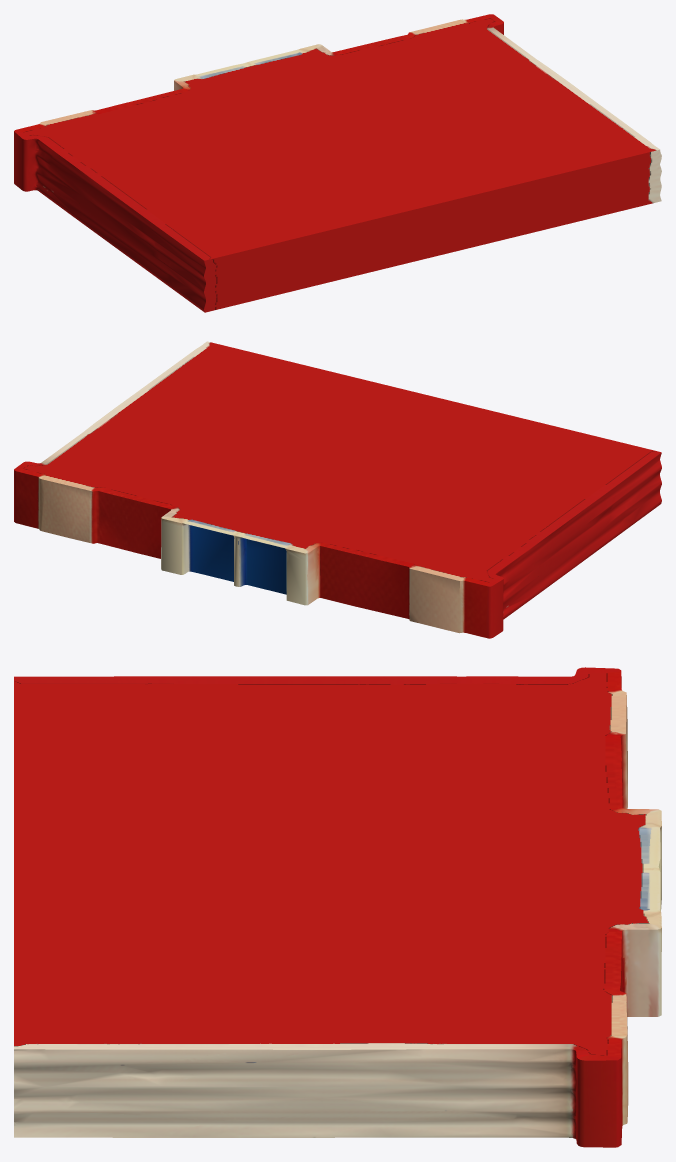
Rendered from 12-roof-back-right.fbx.
3 views of the same model, one above another, from view 1: azimuth 30°, elevation 25°; view 2: azimuth 150°, elevation 25°; view 3: azimuth 270°, elevation 25° (orthographic). The views are drawn at different scales.
Parts seen in each view (by area): view 1: roof-back-right; view 2: roof-back-right; view 3: roof-back-right.
Boxes of the visible parts, left/top/right/bottom form: roof-back-right: left=14, top=14, right=661, bottom=312; roof-back-right: left=14, top=341, right=661, bottom=638; roof-back-right: left=14, top=667, right=661, bottom=1147.
Bounding box in the file's own units: 3794 × 392 × 2643.
1 material, 1 textured.
